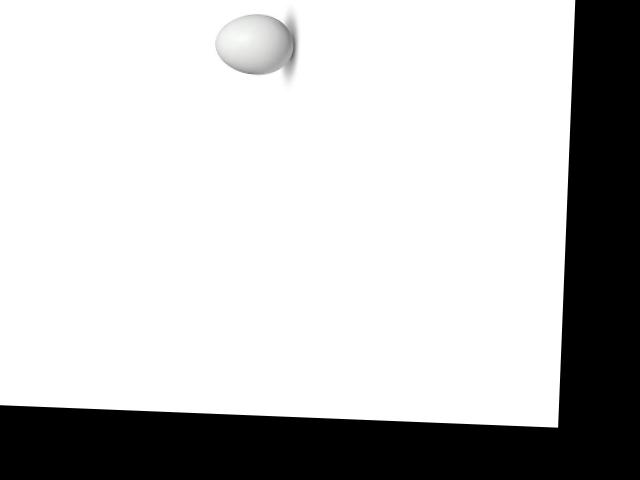egg: (213, 12, 294, 74)
